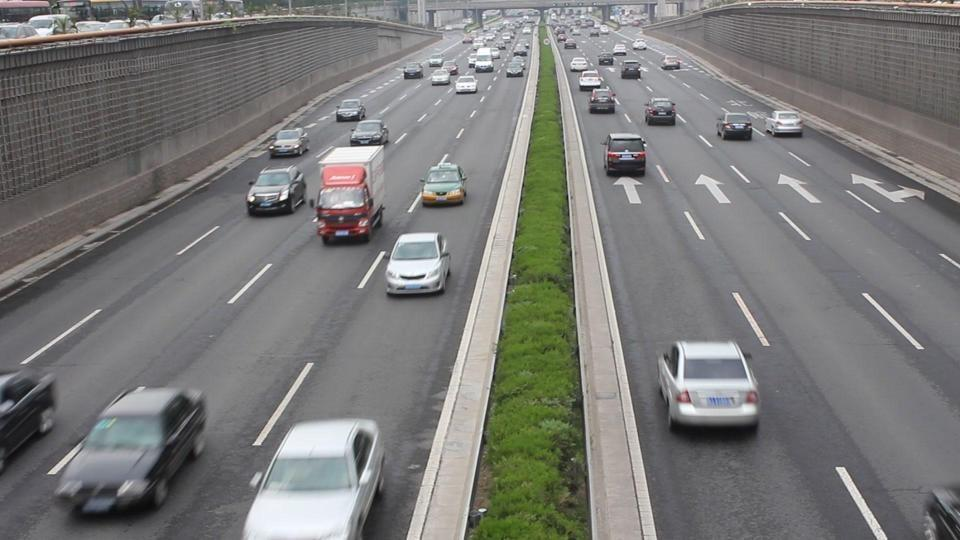car: (52, 385, 210, 516), (240, 417, 386, 539), (656, 339, 761, 432), (0, 368, 59, 472), (384, 232, 452, 295), (245, 166, 307, 216), (420, 162, 469, 207), (921, 484, 960, 539), (604, 132, 648, 176), (715, 108, 755, 141), (269, 128, 310, 157), (764, 109, 803, 137), (644, 98, 677, 126), (351, 121, 389, 145), (589, 87, 617, 114), (335, 99, 367, 121), (471, 49, 495, 73), (578, 69, 603, 91), (620, 60, 643, 80), (454, 76, 478, 95), (430, 69, 450, 87), (569, 54, 589, 71), (402, 64, 423, 79)
